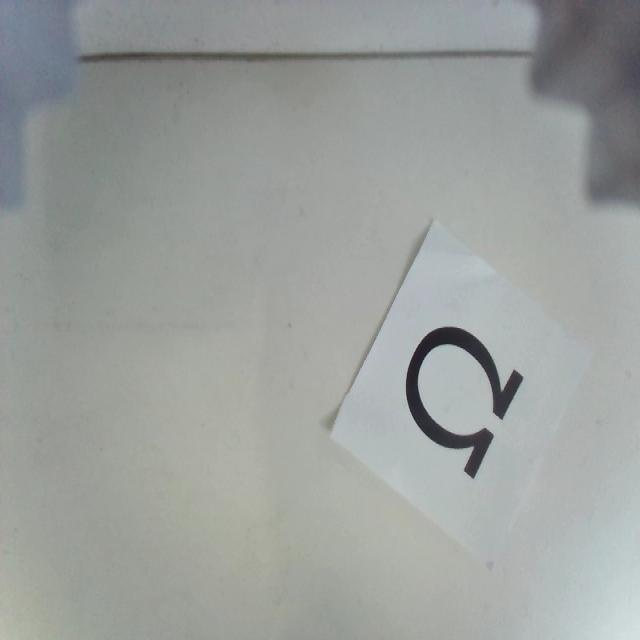OM: (404, 323, 522, 474)
